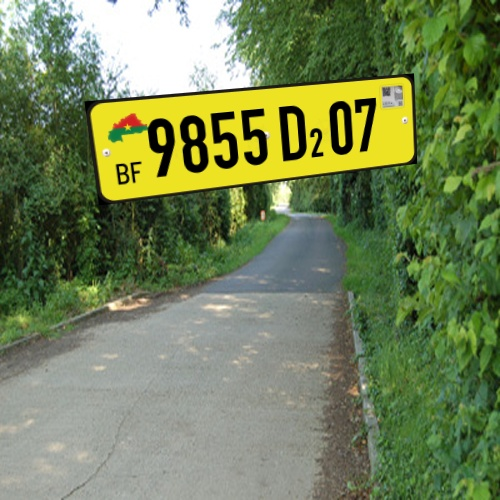plate: (72, 64, 428, 212)
